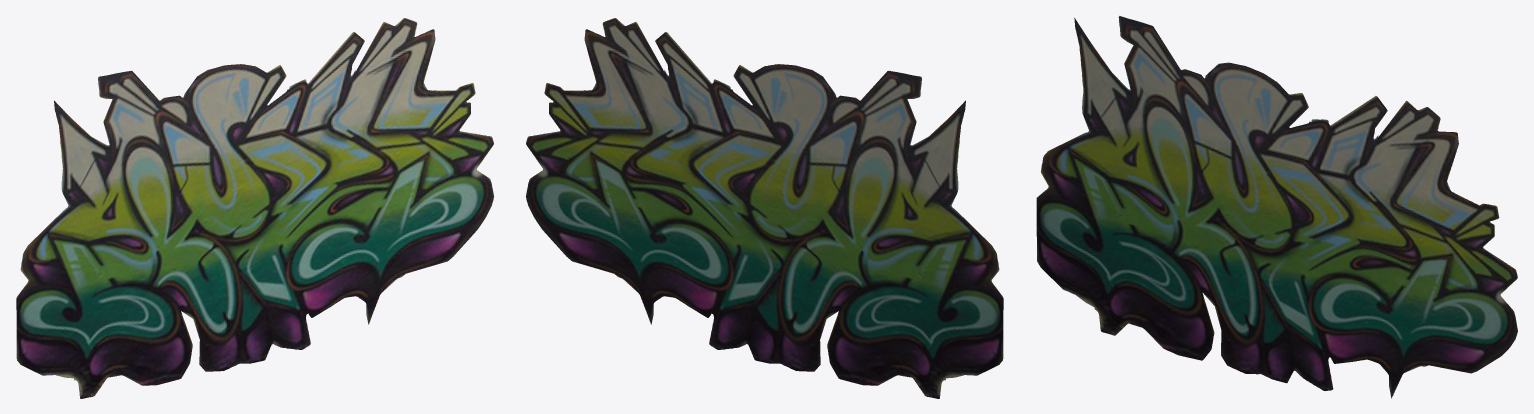
Rendered from MaLuBian_01_tuya_01.FBX.
3 views of the same model, side by side, from view 1: azimuth 30°, elevation 25°; view 2: azimuth 150°, elevation 25°; view 3: azimuth 330°, elevation 25° (orthographic).
Parts seen in each view (by area): view 1: MaLuBian_01_tuya_01; view 2: MaLuBian_01_tuya_01; view 3: MaLuBian_01_tuya_01.
Part boxes in pixels (left/top/right/bottom): MaLuBian_01_tuya_01: left=16, top=18, right=493, bottom=398; MaLuBian_01_tuya_01: left=526, top=18, right=1003, bottom=398; MaLuBian_01_tuya_01: left=1036, top=16, right=1517, bottom=398.
Size of the model in its own units: 784 by 507 by 8.25e-05.
